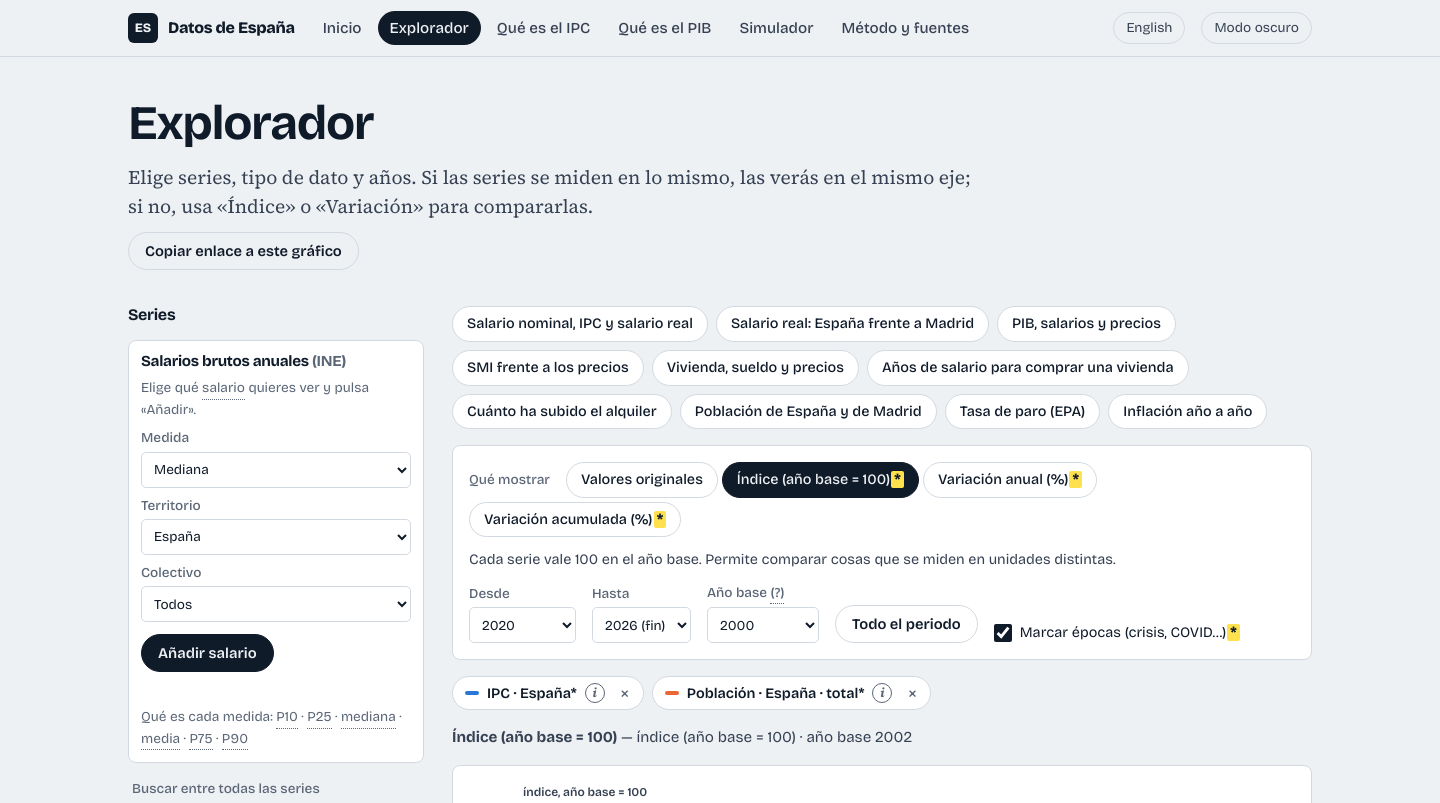
Scenario: cambio de idioma › al cambiar de idioma se conservan las series elegidas en el explorador
The image size is (1440, 803).
Click the button "English": (1150, 28) [1114, 12, 1186, 44]
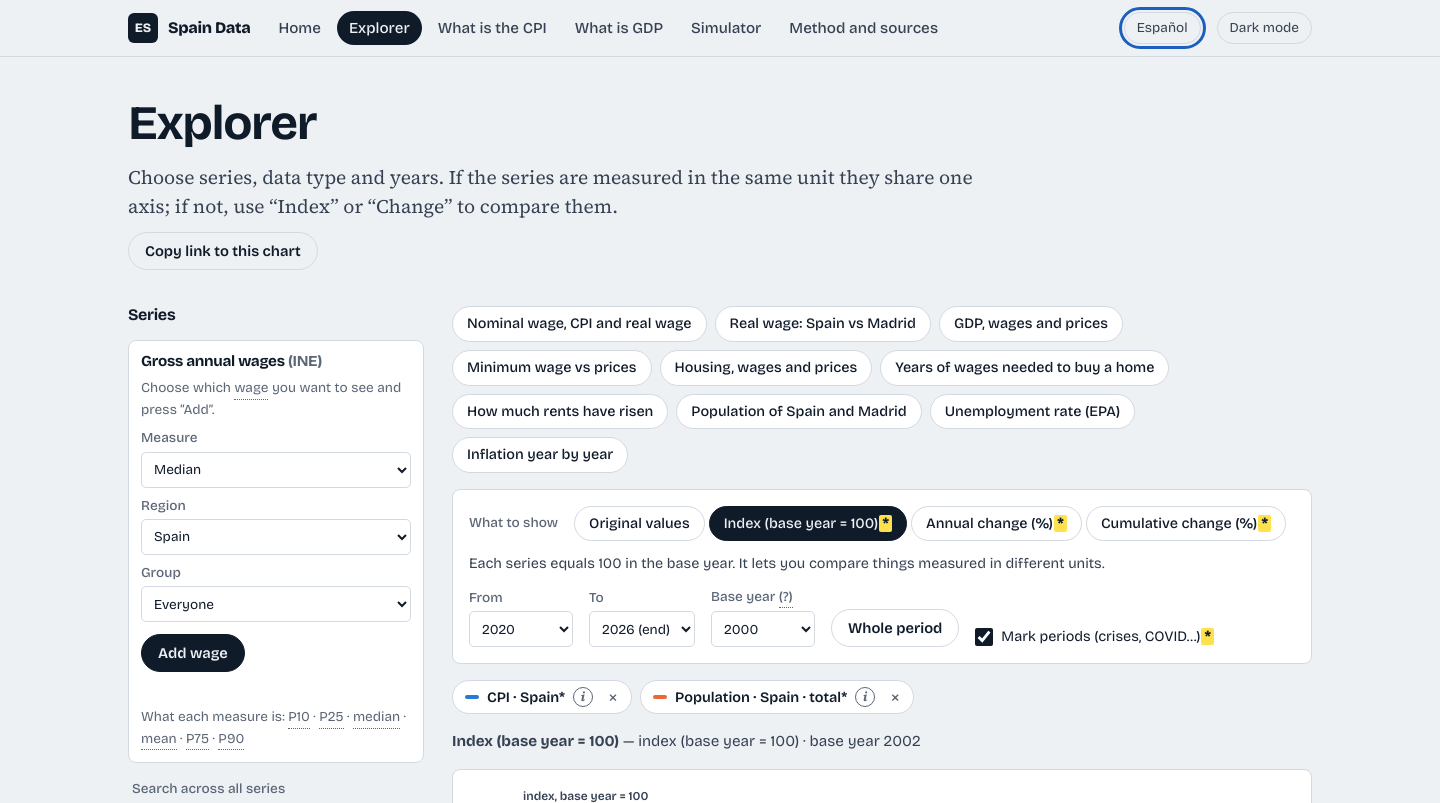
Check: the list named "Chart series" is shown, box [452, 680, 914, 714]
